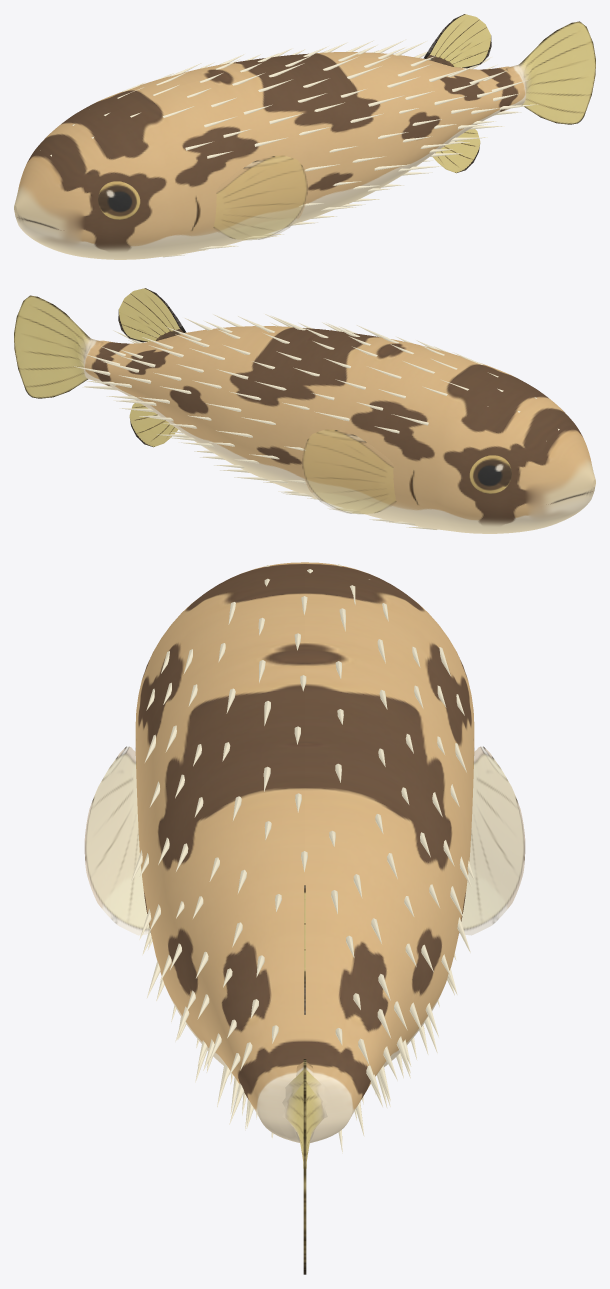
Rendered from harisenbon-normal-v5.glb.
3 renders of one model, top to bottom at view 1: azimuth 30°, elevation 25°; view 2: azimuth 150°, elevation 25°; view 3: azimuth 270°, elevation 25°, orthographic. The views are drawn at different scales.
Visible parts, largest first — view 1: body, skin_spines, pectoral_1, caudal, dorsal, eye_1, anal; view 2: body, skin_spines, pectoral_-1, caudal, dorsal, eye_-1, anal; view 3: body, skin_spines, pectoral_-1, pectoral_1, caudal.
Boxes of the visible parts, <box> form: body: <box>14,52,525,259</box>; skin_spines: <box>40,39,538,257</box>; pectoral_1: <box>213,155,307,240</box>; caudal: <box>505,21,595,124</box>; dorsal: <box>423,14,491,68</box>; eye_1: <box>98,181,140,219</box>; anal: <box>432,129,480,173</box>; body: <box>84,326,595,533</box>; skin_spines: <box>74,314,559,529</box>; pectoral_-1: <box>302,429,396,514</box>; caudal: <box>14,295,104,398</box>; dorsal: <box>118,288,186,342</box>; eye_-1: <box>469,455,511,493</box>; anal: <box>129,403,178,447</box>; body: <box>135,562,474,1142</box>; skin_spines: <box>131,564,474,1153</box>; pectoral_-1: <box>459,746,525,935</box>; pectoral_1: <box>84,746,149,935</box>; caudal: <box>282,1059,327,1274</box>.
Bounding box in the file's own units: 0.3802 × 0.105 × 0.125.
Materials: 6 (5 with a texture image).
